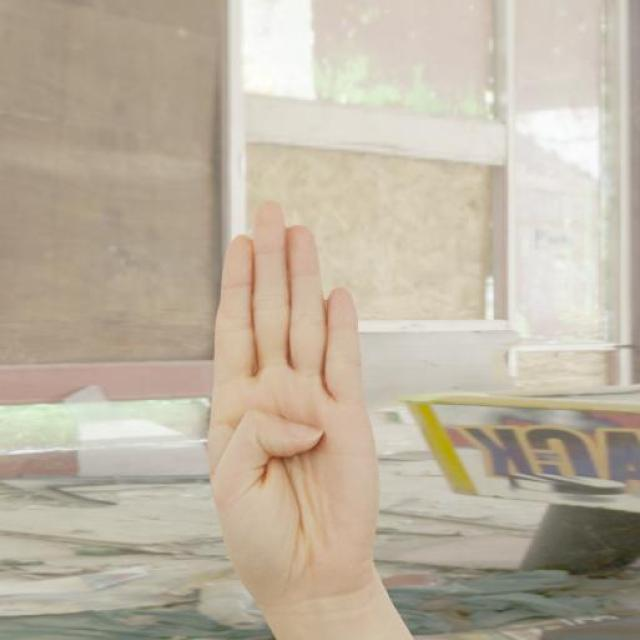B: (198, 192, 388, 613)
